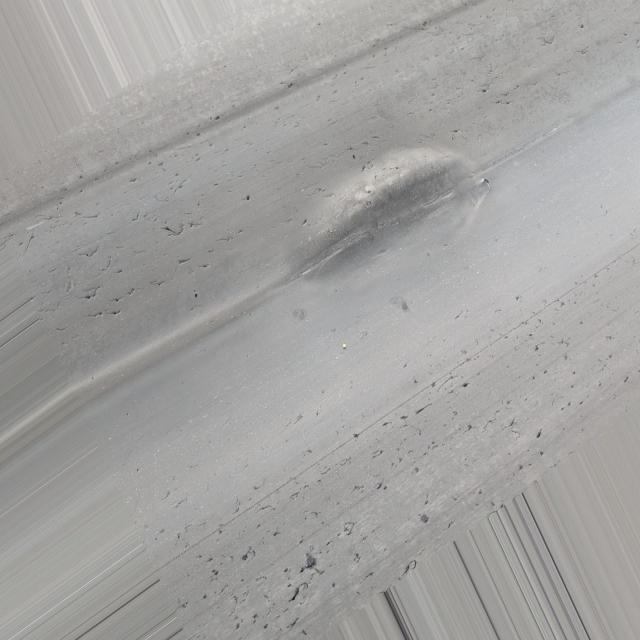Impact Damage: (297, 141, 483, 285)
Puncture: (532, 426, 546, 442), (376, 480, 389, 494), (268, 527, 282, 540), (240, 552, 254, 564), (296, 564, 310, 576), (398, 413, 414, 423), (212, 112, 223, 126), (260, 622, 272, 633), (531, 342, 543, 353), (460, 380, 472, 390), (510, 294, 522, 304), (244, 194, 254, 202), (192, 292, 202, 300), (349, 152, 359, 160), (480, 88, 490, 96), (352, 432, 361, 440)
